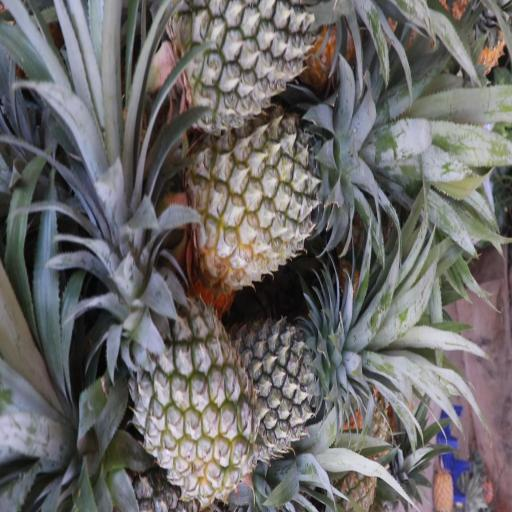------------------------------: (193, 116, 387, 284), (136, 300, 255, 495)
